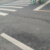zebra: (1, 1, 32, 16)
